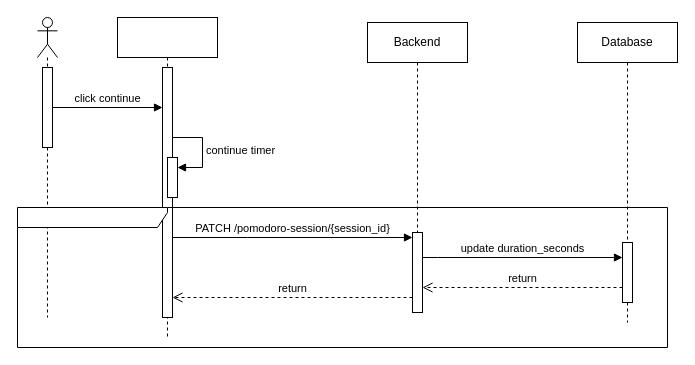
Some shapes in this 695 by 365 pixel diagram are drawn without their labels. The shapes that lost their labels are listed below. From the top down, each one's centre as x and y in pixels, then its label:
the point at 167,177: UI
the point at 342,277: loop every 5 minutes
